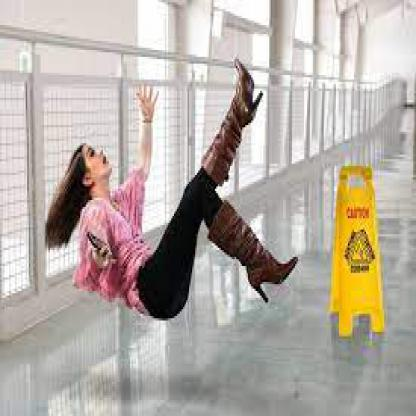Fall_Down: (45, 56, 301, 320)
